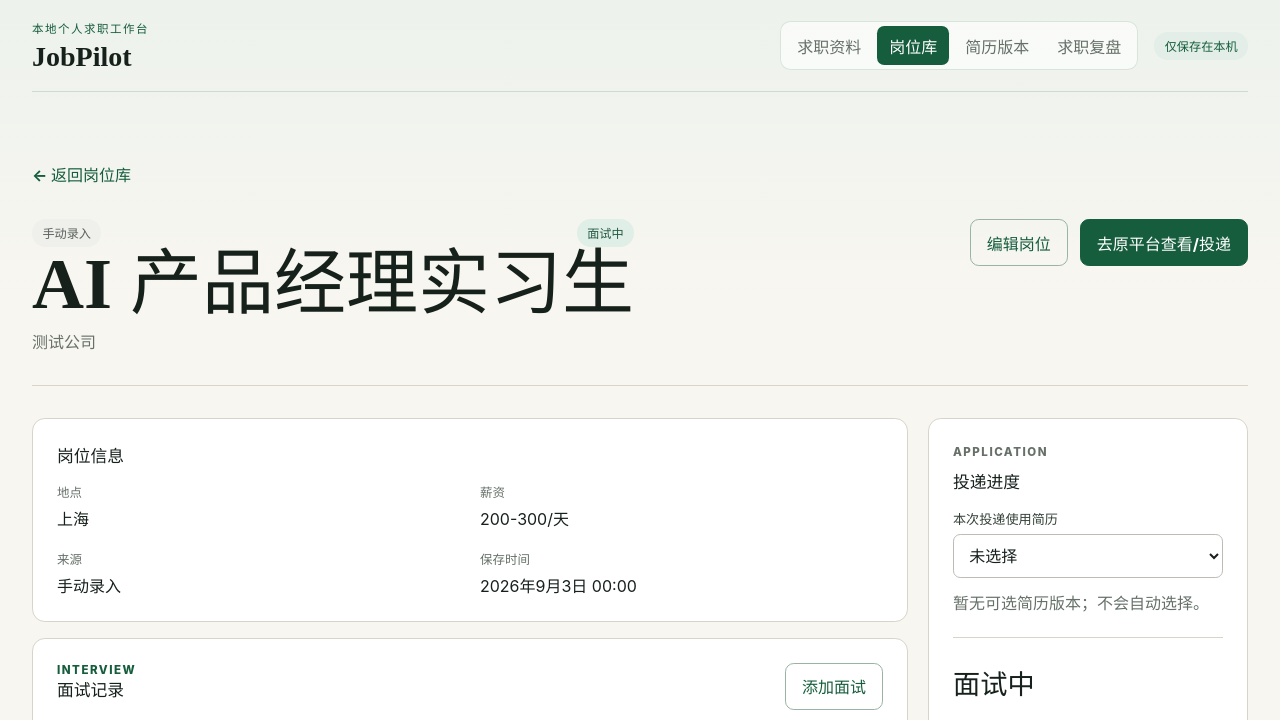
App › adds a manual interview round without changing the Application status
Click the button "添加面试" at {"x": 834, "y": 686}, box [785,663,883,710]
(page scrolled)
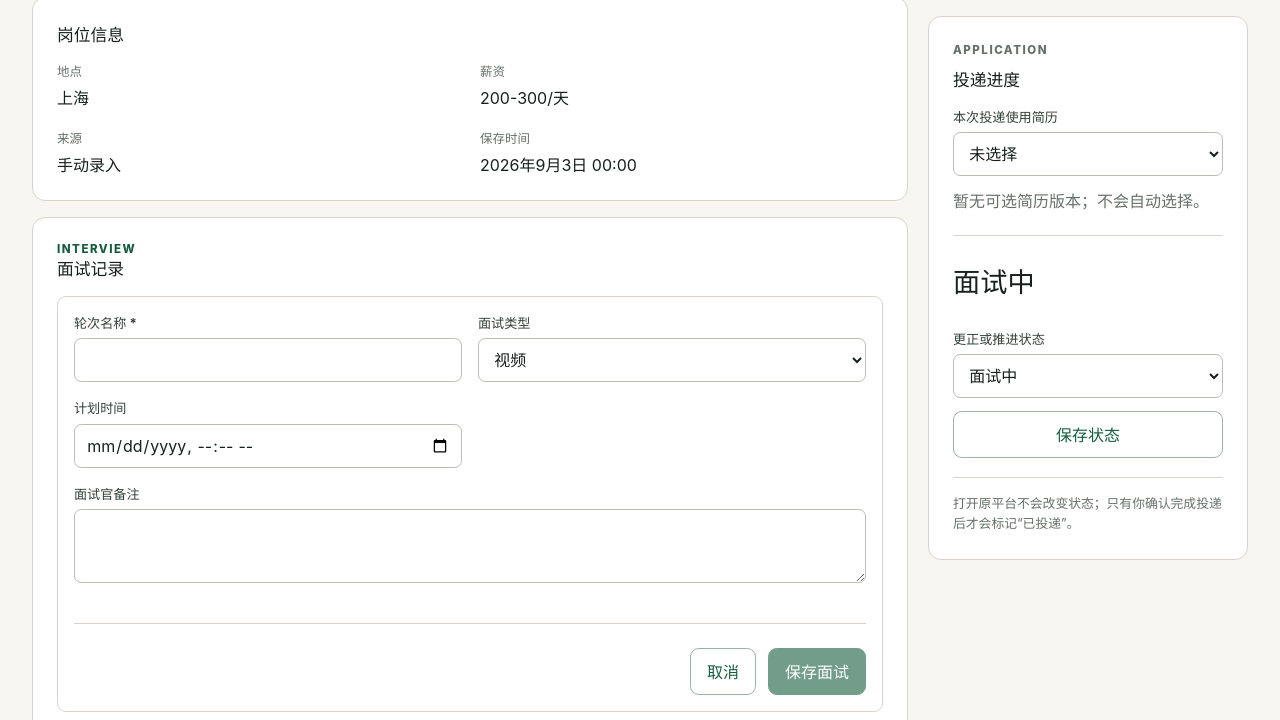
Type "一面" into the field labelled "轮次名称 *" at {"x": 268, "y": 360}, box [74,338,462,382]
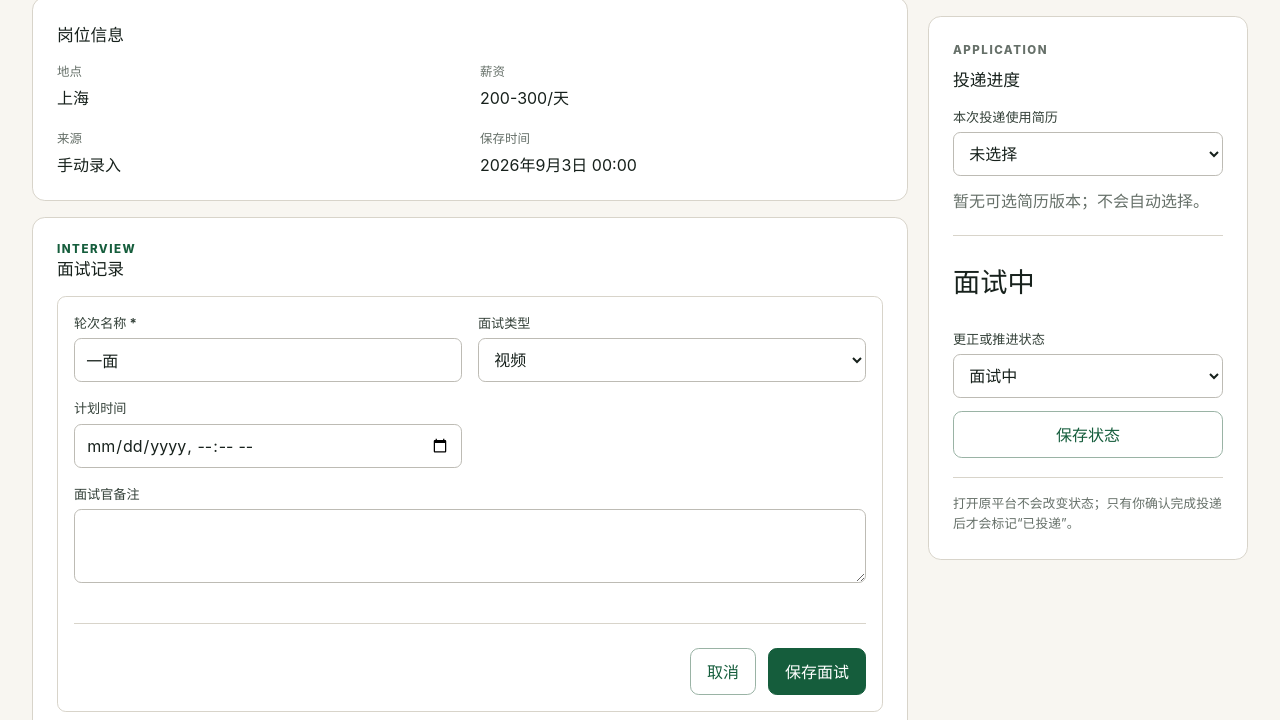
Select "视频" in the dropdown labelled "面试类型" at {"x": 672, "y": 360}, box [478,338,866,382]
Type "2026-09-08T14:30" into the field labelled "计划时间" at {"x": 268, "y": 446}, box [74,424,462,468]
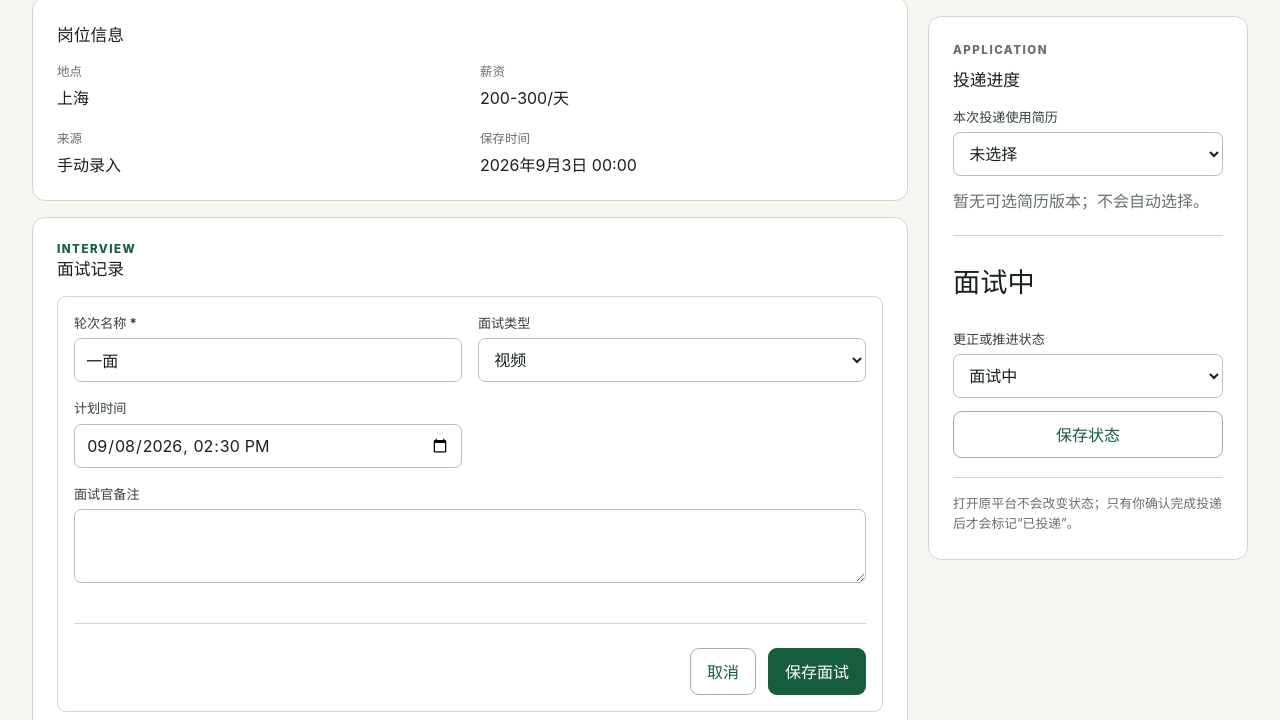
Click the button "保存面试" at {"x": 817, "y": 672}, box [768,648,866,695]
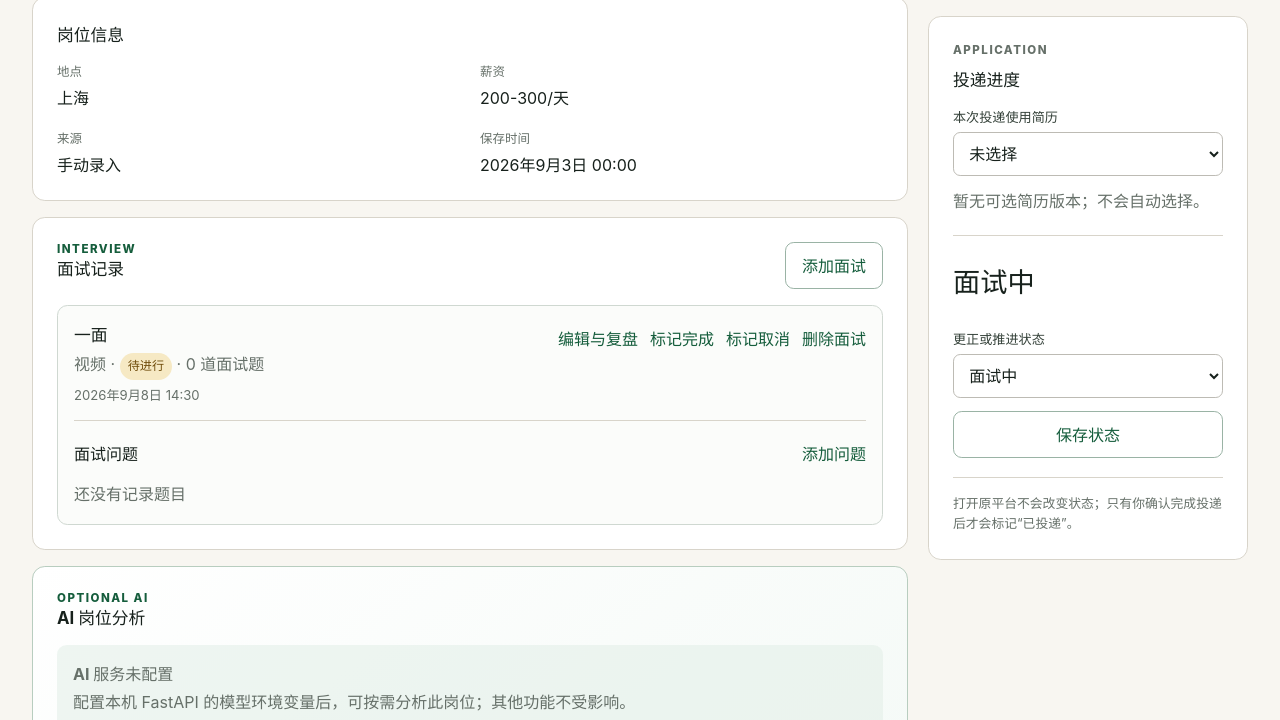
Expected: the heading "一面" is shown, [74,325,108,345]
